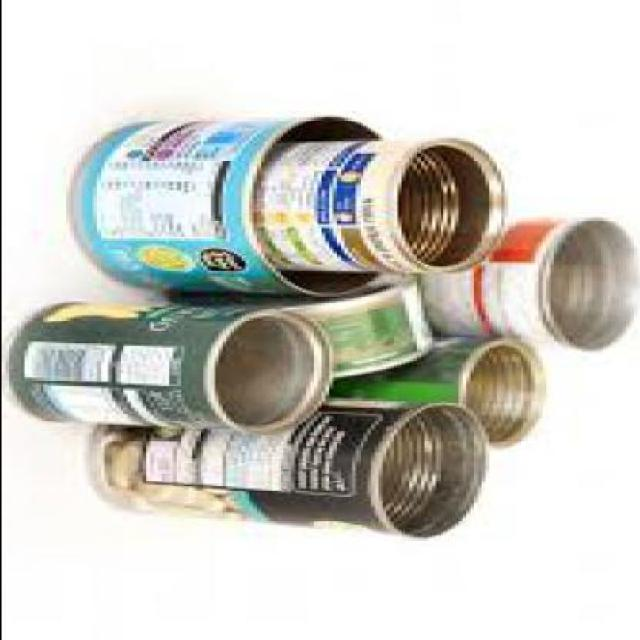METAL: (70, 117, 392, 301), (84, 403, 491, 542), (12, 301, 334, 437), (255, 141, 511, 277), (403, 218, 639, 356), (171, 268, 438, 382), (328, 339, 544, 450)
